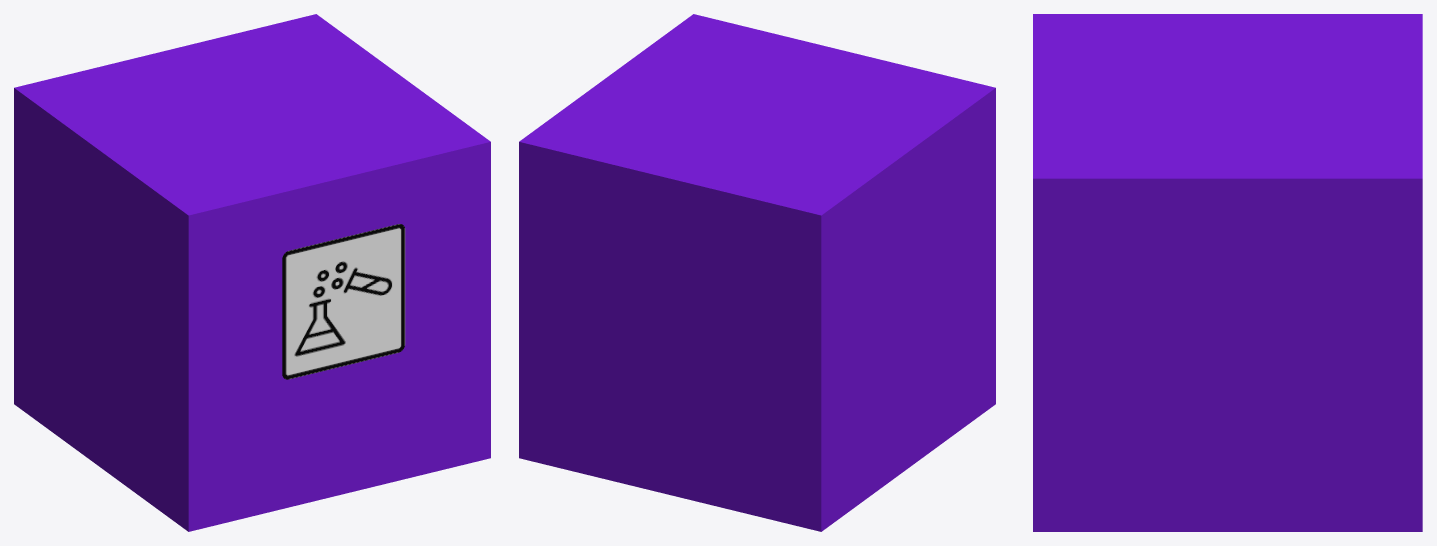
File: synthesiser.fbx
3 views of the same model, side by side, from view 1: azimuth 30°, elevation 25°; view 2: azimuth 150°, elevation 25°; view 3: azimuth 270°, elevation 25° (orthographic). The views are drawn at different scales.
Visible parts, largest first — view 1: Cube, Plane; view 2: Cube; view 3: Cube.
Boxes of the visible parts, x1,y1,x2,y2 form: Cube: (14, 14, 490, 531); Plane: (282, 224, 405, 379); Cube: (519, 14, 995, 531); Cube: (1033, 14, 1422, 531).
Bounding box in the file's own units: 773 × 773 × 790.
